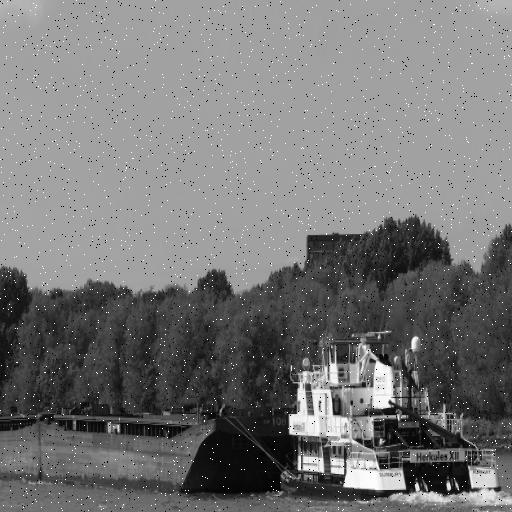tugboat: (278, 328, 505, 512)
